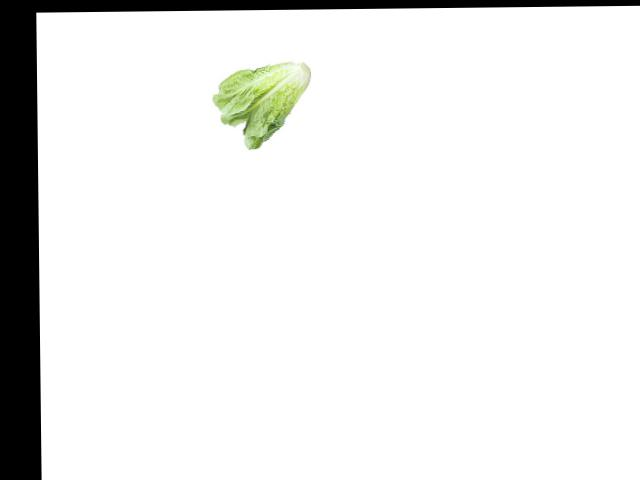lettuce: (212, 56, 308, 155)
